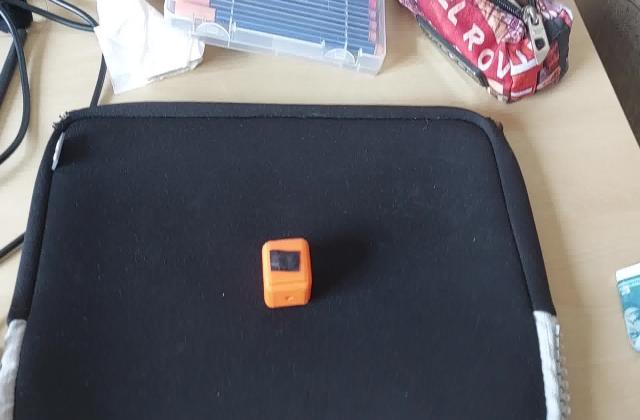black: (266, 248, 304, 276)
sticker: (260, 236, 316, 310)
